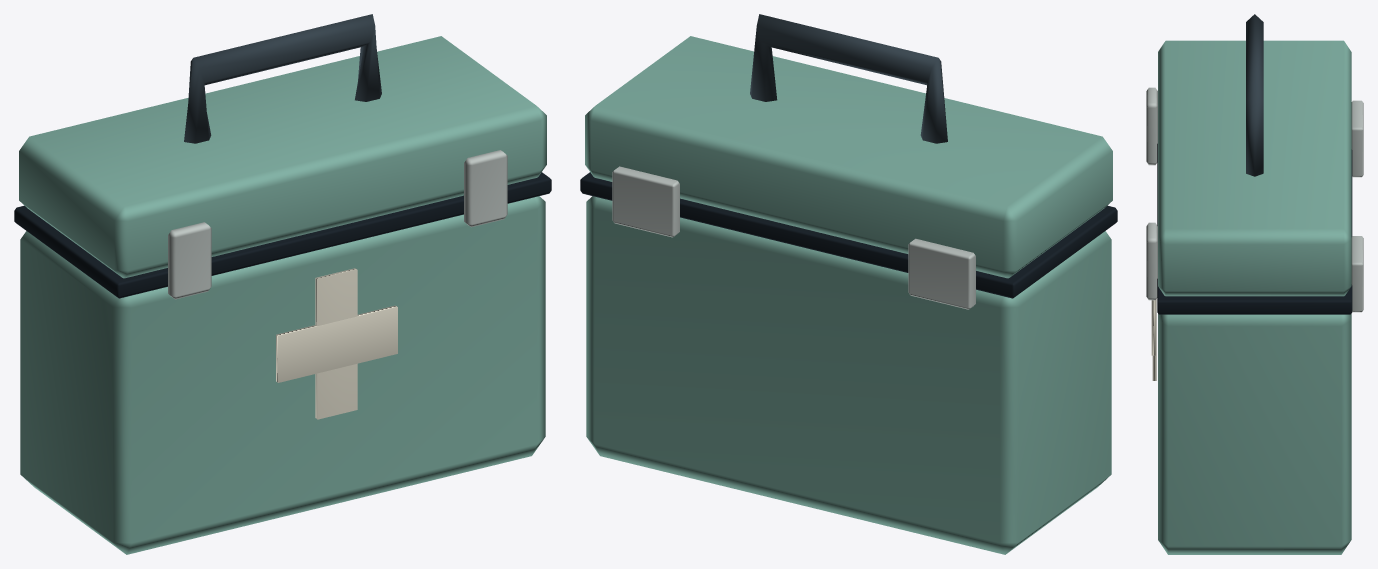
File: P098_first_aid_case_rebuilt.glb
The picture shows the model from 3 angles, left to right: view 1: azimuth 30°, elevation 25°; view 2: azimuth 150°, elevation 25°; view 3: azimuth 270°, elevation 25°; orthographic projection. The views are drawn at different scales.
Visible parts, largest first — view 1: green, white, dark, shell, silver; view 2: green, dark, shell, silver; view 3: green, dark, silver, shell, white.
Part boxes in pixels (<box>): green: <box>19,36,546,554</box>; white: <box>276,268,397,419</box>; dark: <box>14,172,551,298</box>; shell: <box>184,14,381,143</box>; silver: <box>168,150,507,299</box>; green: <box>585,36,1112,554</box>; dark: <box>580,172,1117,298</box>; shell: <box>750,14,947,143</box>; silver: <box>612,166,975,309</box>; green: <box>1158,40,1351,554</box>; dark: <box>1157,143,1352,314</box>; silver: <box>1146,87,1363,312</box>; shell: <box>1246,14,1263,176</box>; white: <box>1151,299,1156,380</box>.
Size of the model in its own units: 0.27 by 0.2585 by 0.125.
